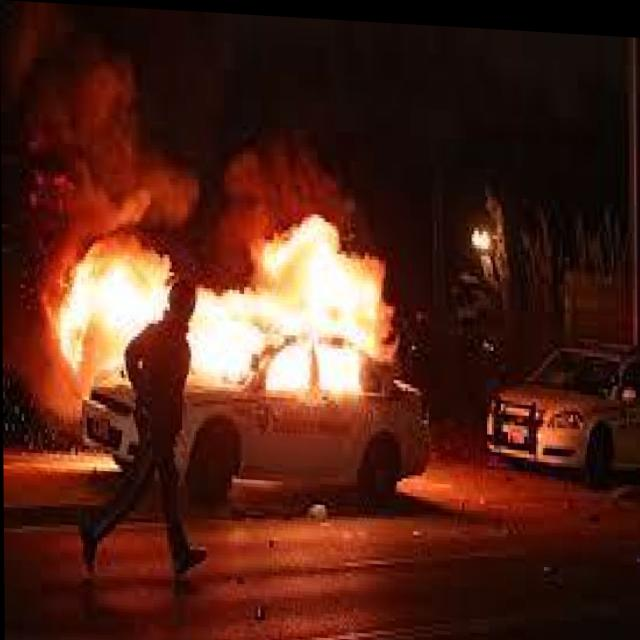fire: (59, 188, 409, 418)
